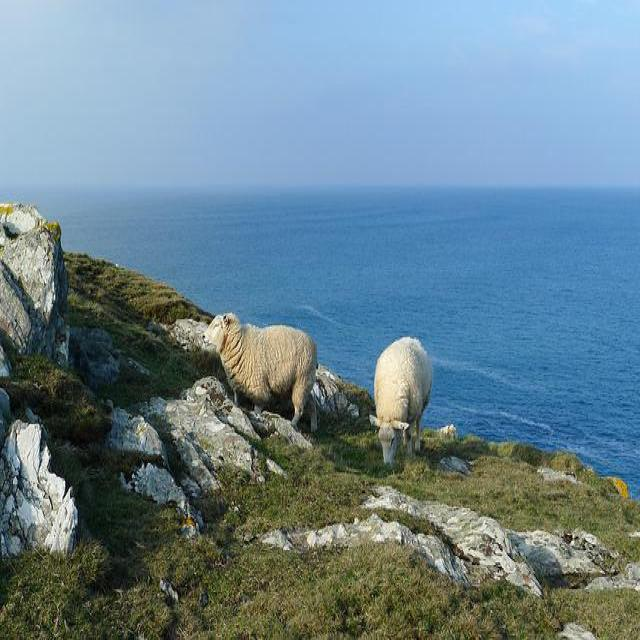Sheep: (202, 312, 318, 430), (369, 337, 431, 466)
